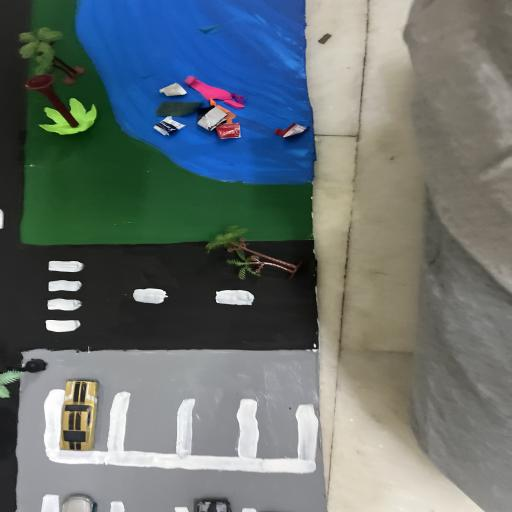fallen trees: (204, 224, 304, 281), (23, 74, 105, 137)
trash: (154, 77, 310, 145)
